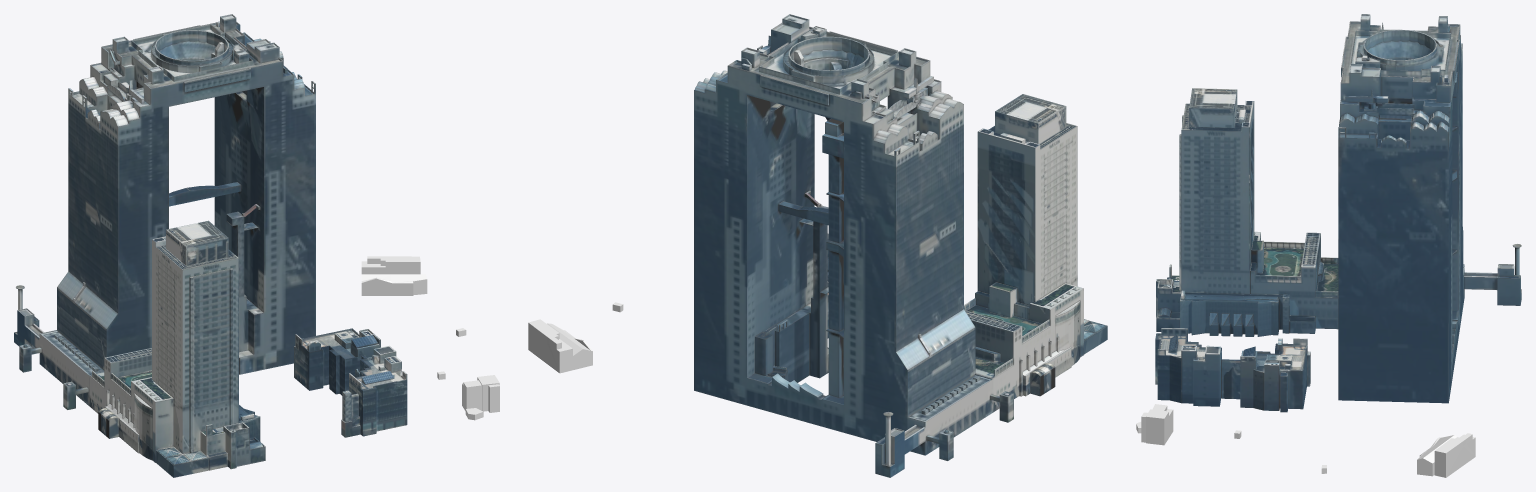
The model's file is umeda-sky-district.glb.
3 renders of one model, left to right at view 1: azimuth 30°, elevation 25°; view 2: azimuth 150°, elevation 25°; view 3: azimuth 270°, elevation 25°, orthographic. The views are drawn at different scales.
Bounding box in the file's own units: 228 × 175 × 193.
Materials: 2 (1 with a texture image).
